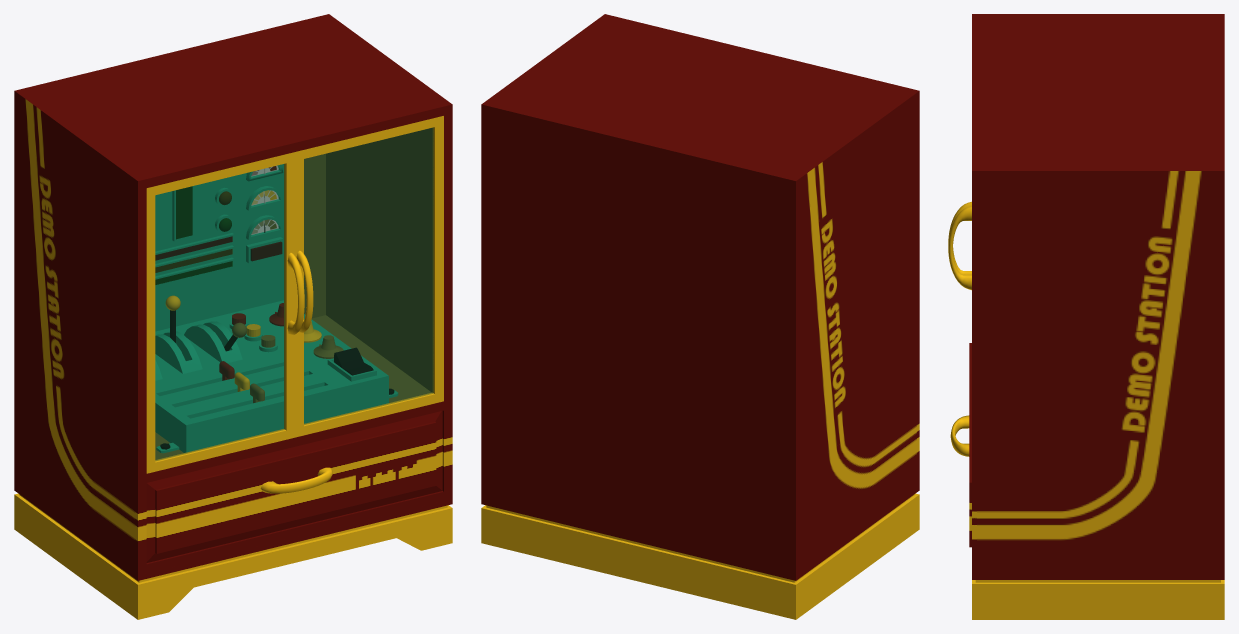
Rendered from demoStation.FBX.
3 renders of one model, left to right at view 1: azimuth 30°, elevation 25°; view 2: azimuth 150°, elevation 25°; view 3: azimuth 270°, elevation 25°, orthographic. The views are drawn at different scales.
Parts seen in each view (by area): view 1: cabnet, doorRightGlass, doorGlassLeft, controlPanel, drawerFront, cabnetBase, doorRight, doorLeft, greenVerticalGauge, drawerHandle, doorHandleRight, onOffSwitch (+1 smaller); view 2: cabnet, cabnetBase; view 3: cabnet, cabnetBase, drawerFront, doorHandleLeft, drawerHandle.
Boxes of the visible parts, left/top/right/bottom form: cabnet: left=14, top=14, right=452, bottom=580; doorRightGlass: left=155, top=164, right=285, bottom=460; doorGlassLeft: left=304, top=127, right=433, bottom=424; controlPanel: left=155, top=164, right=398, bottom=453; drawerFront: left=135, top=399, right=452, bottom=575; cabnetBase: left=14, top=493, right=452, bottom=619; doorRight: left=146, top=152, right=295, bottom=473; doorLeft: left=295, top=116, right=443, bottom=437; greenVerticalGauge: left=176, top=186, right=192, bottom=239; drawerHandle: left=260, top=467, right=332, bottom=493; doorHandleRight: left=287, top=253, right=304, bottom=335; onOffSwitch: left=334, top=347, right=373, bottom=375; cabnet: left=481, top=14, right=919, bottom=580; cabnetBase: left=481, top=493, right=919, bottom=619; cabnet: left=972, top=14, right=1224, bottom=579; cabnetBase: left=972, top=580, right=1224, bottom=619; drawerFront: left=969, top=343, right=976, bottom=574; doorHandleLeft: left=948, top=206, right=971, bottom=290; drawerHandle: left=950, top=415, right=969, bottom=456.
Size of the model in its own units: 91.44 by 122 by 68.
Materials: 16 (13 with a texture image).
